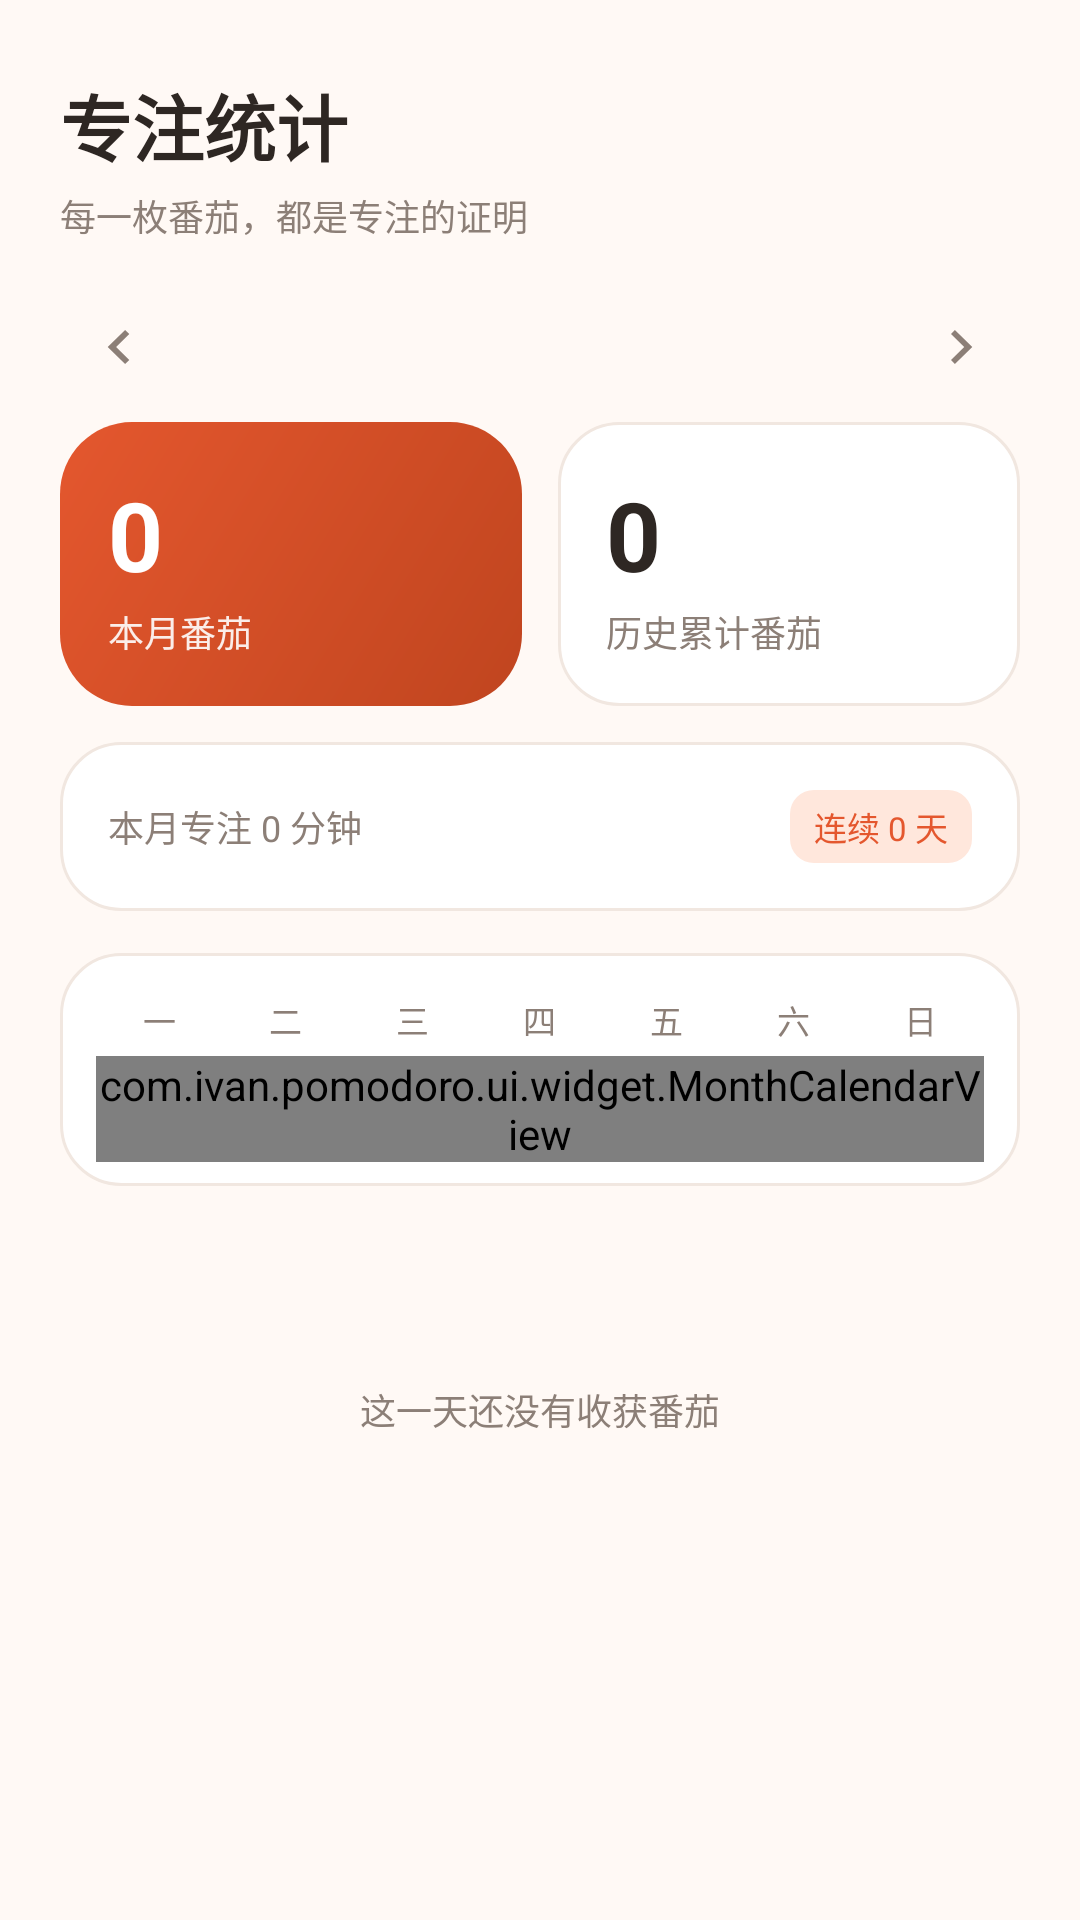

Named icons in this screenshot (1080w x 1920h) and their centers, point (x, y):
上一月: point (118, 347)
下一月: point (961, 347)
